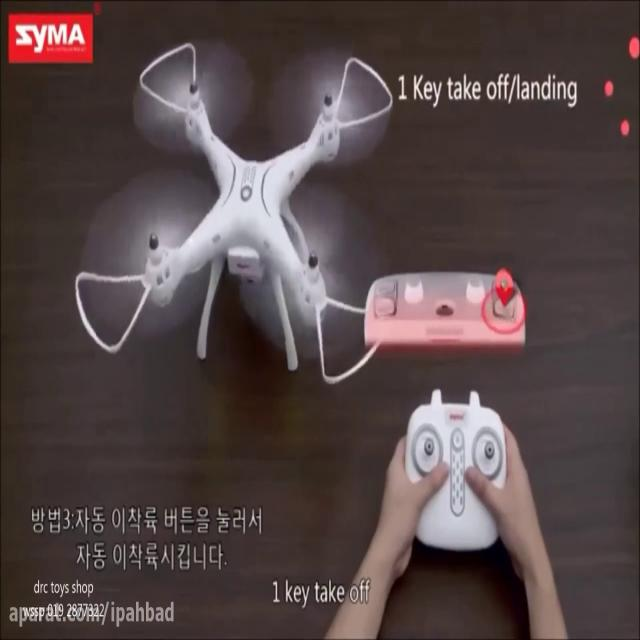drone: (73, 32, 395, 389)
